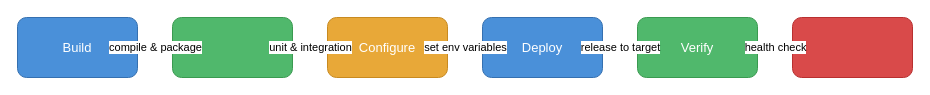
Image size: 930x95. Some labels were removed from this diagram. Each missing label, with the box of its shape:
Smoke Test: (792, 16, 912, 78)
Test: (172, 16, 292, 78)
